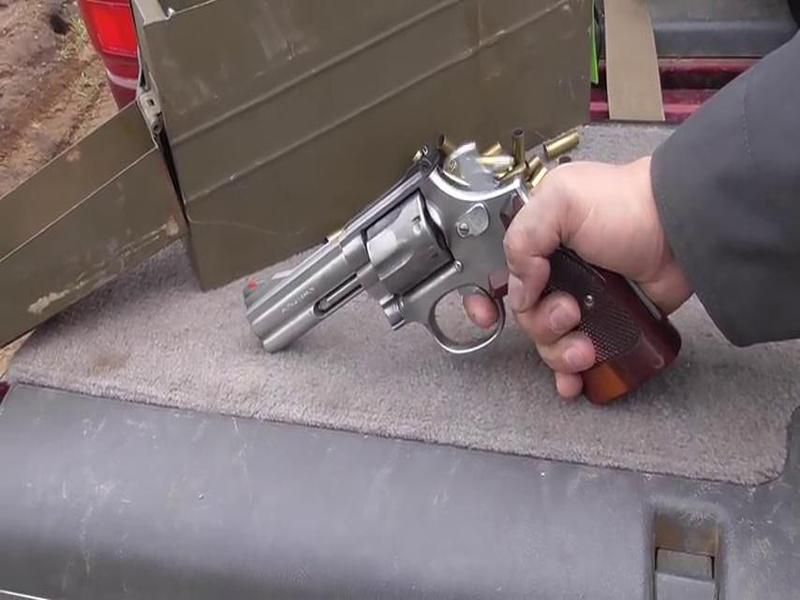Revolver: (237, 145, 574, 396)
